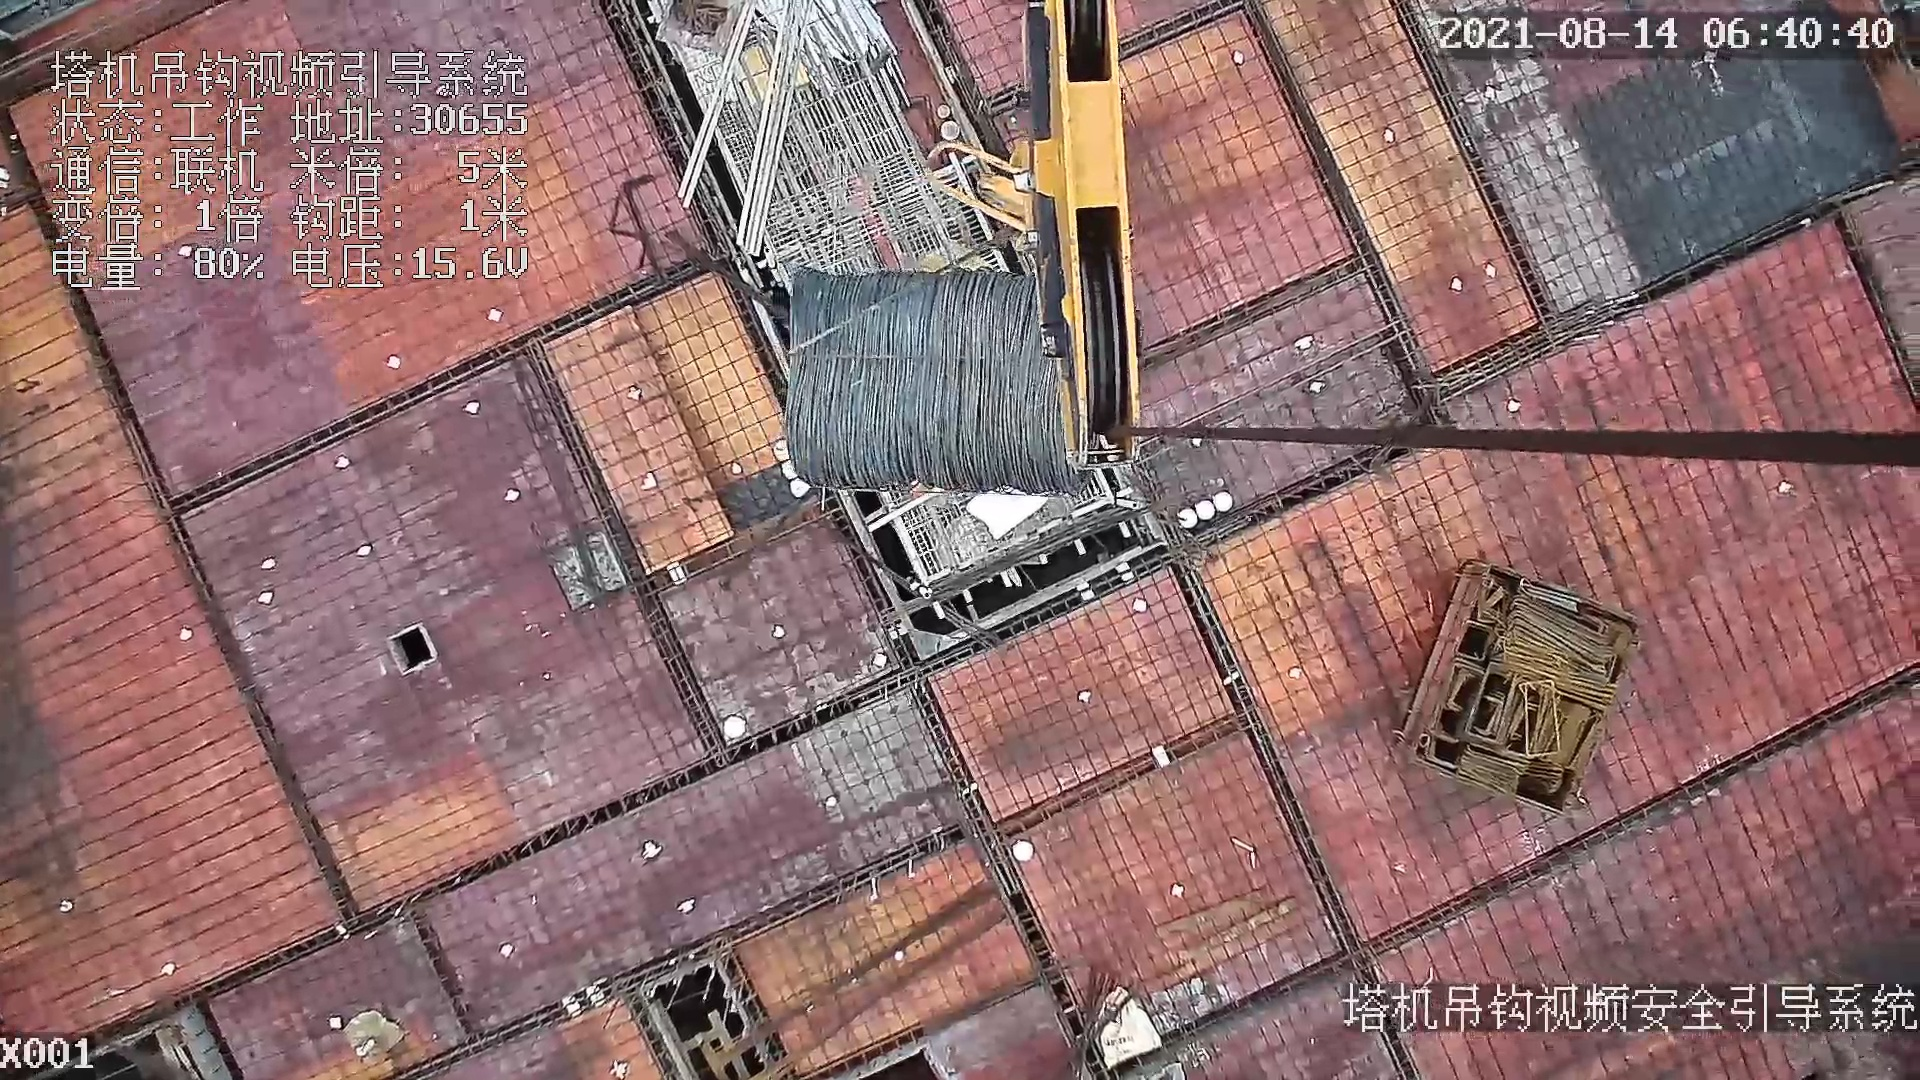hook: (926, 1, 1158, 469)
